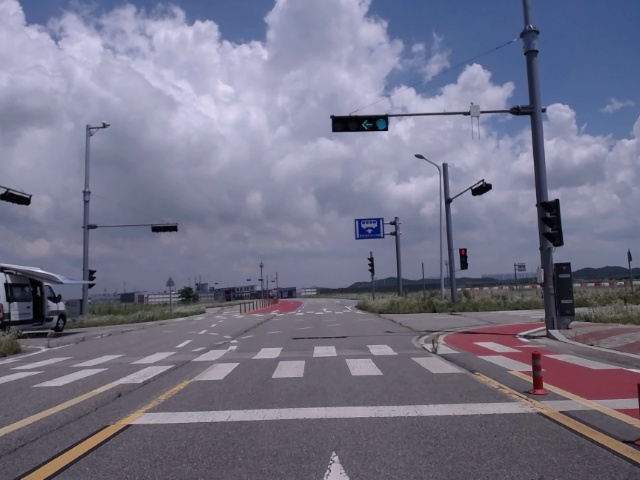all_green_4: (329, 115, 389, 132)
